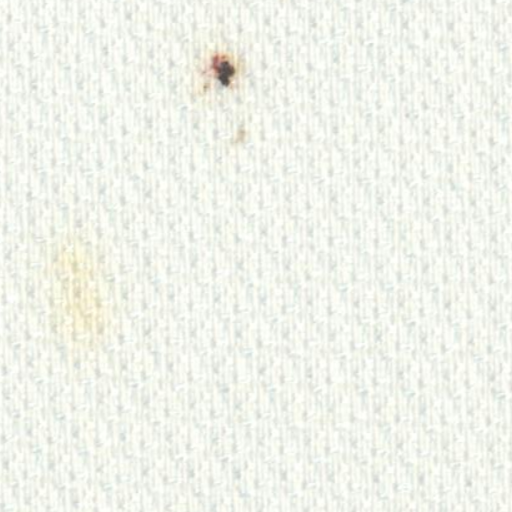WuZi: (17, 211, 142, 360), (172, 28, 276, 176)
